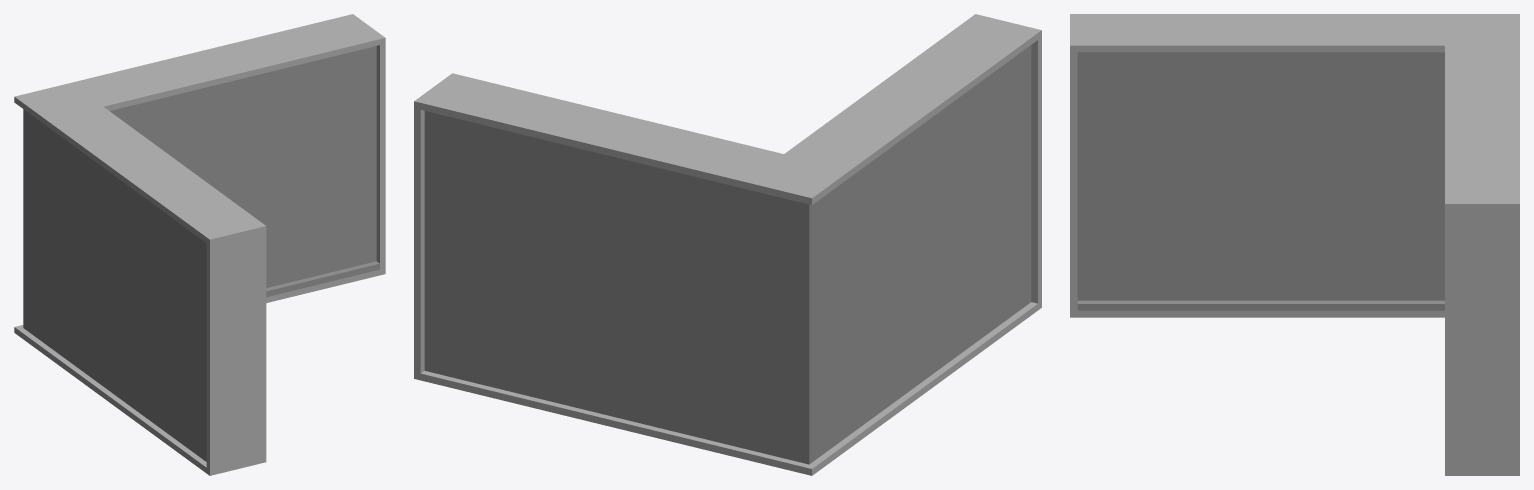
File: Security Corner.obj
3 renders of one model, left to right at view 1: azimuth 30°, elevation 25°; view 2: azimuth 150°, elevation 25°; view 3: azimuth 270°, elevation 25°, orthographic. The views are drawn at different scales.
Size of the model in its own units: 60 by 40 by 60.
1 material, 1 textured.
